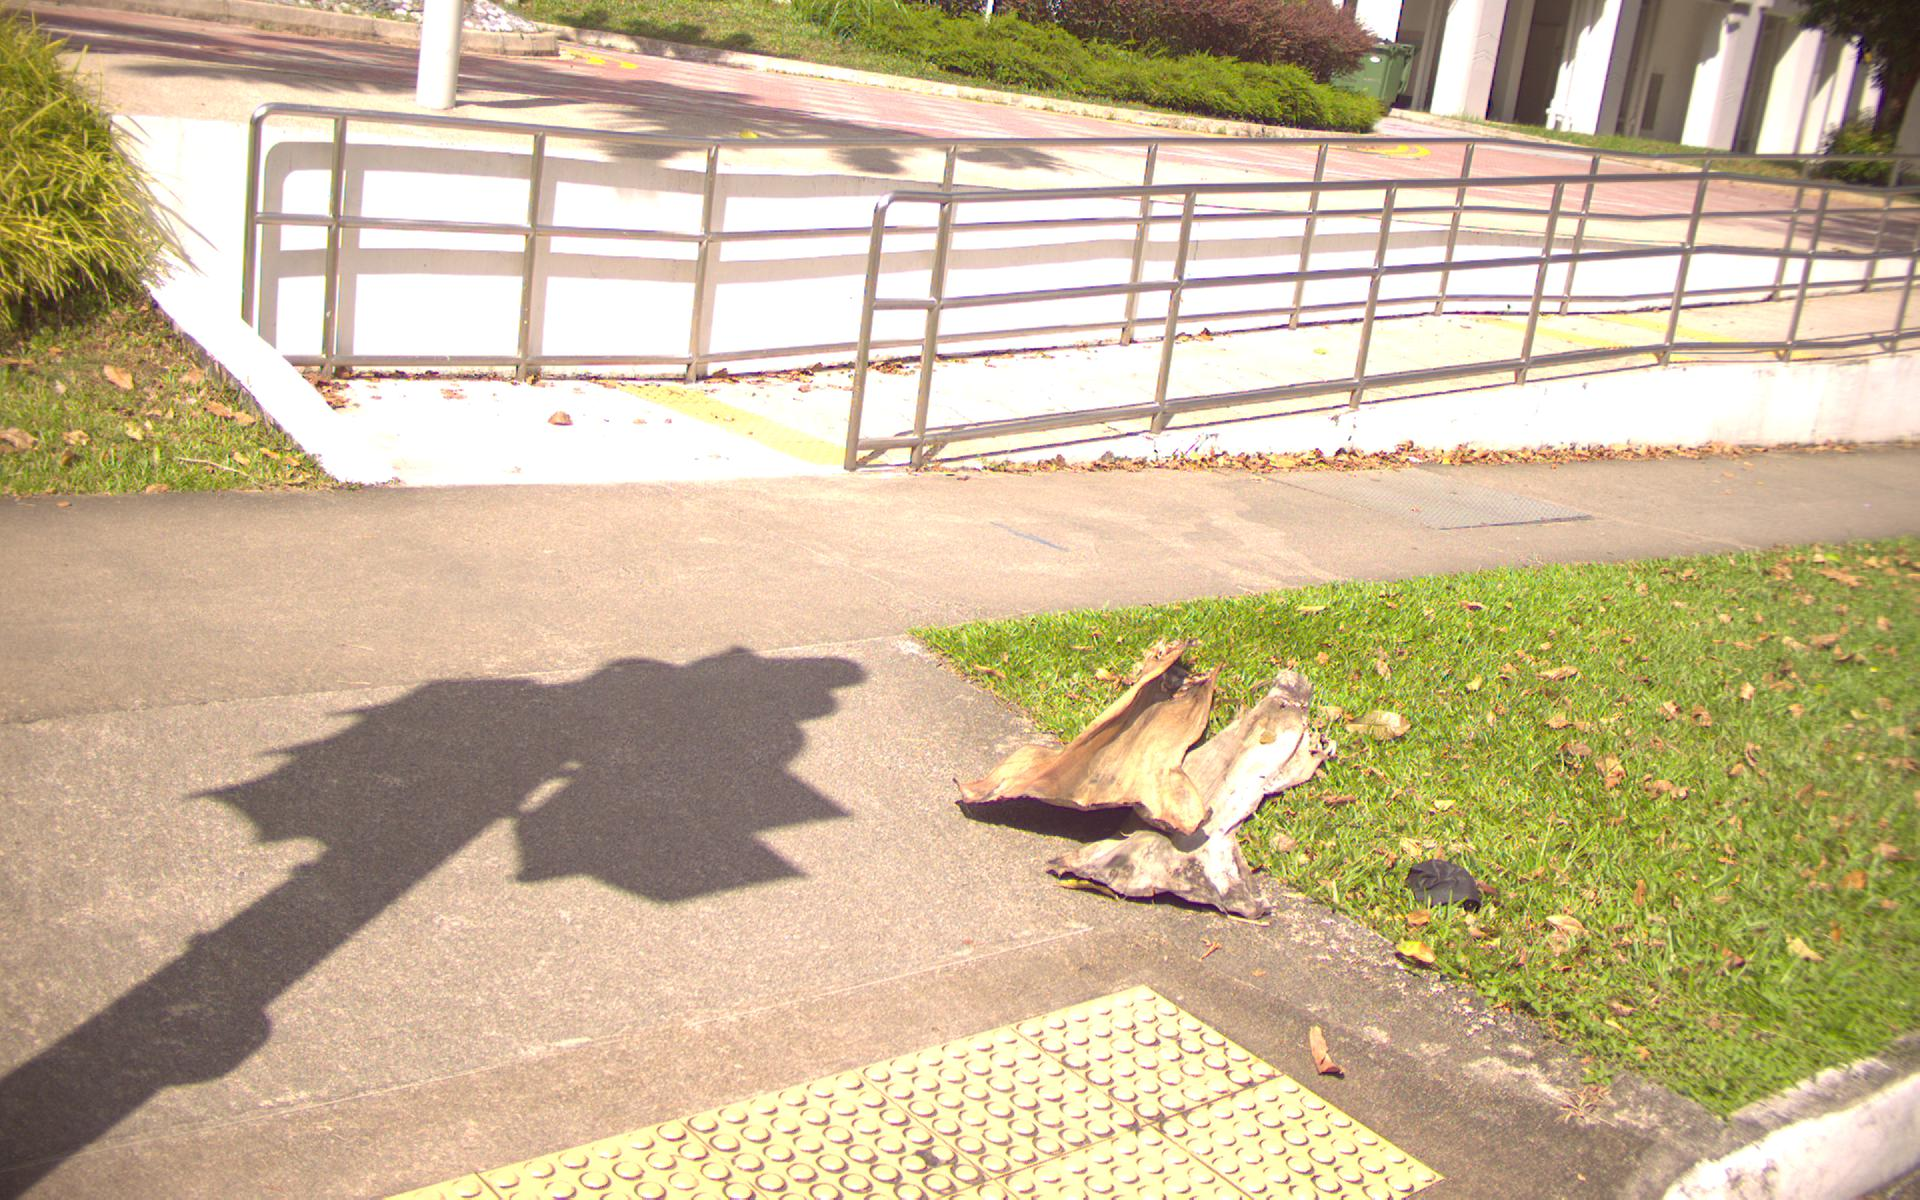pathway_low: (4, 500, 908, 1200)
road_turf_low: (1450, 571, 1920, 982)
